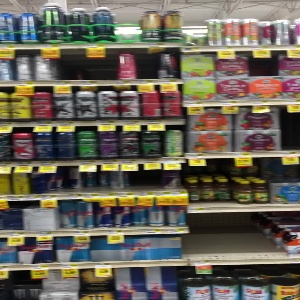void: (189, 210, 279, 260), (57, 48, 117, 80), (133, 48, 160, 79)
